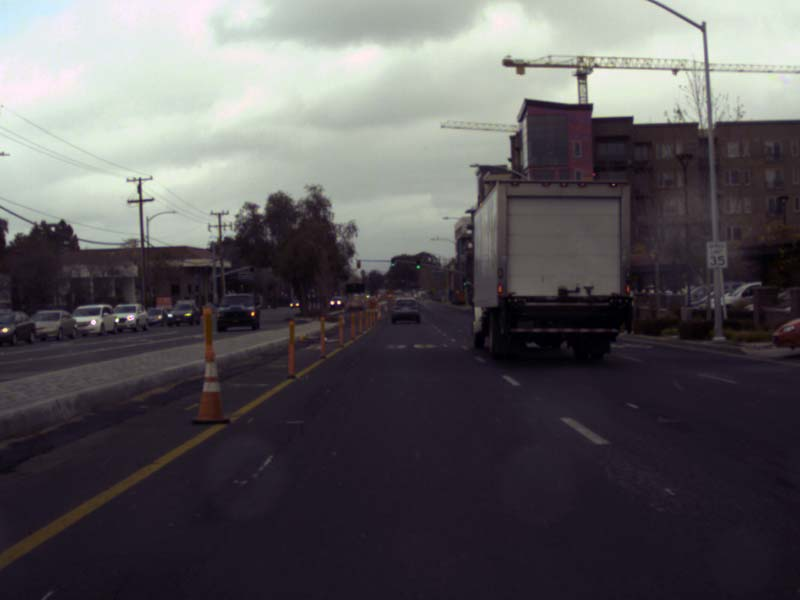Green: (473, 276, 479, 285), (416, 259, 419, 268), (391, 258, 394, 265), (463, 277, 465, 284)
Red: (356, 260, 359, 268)
